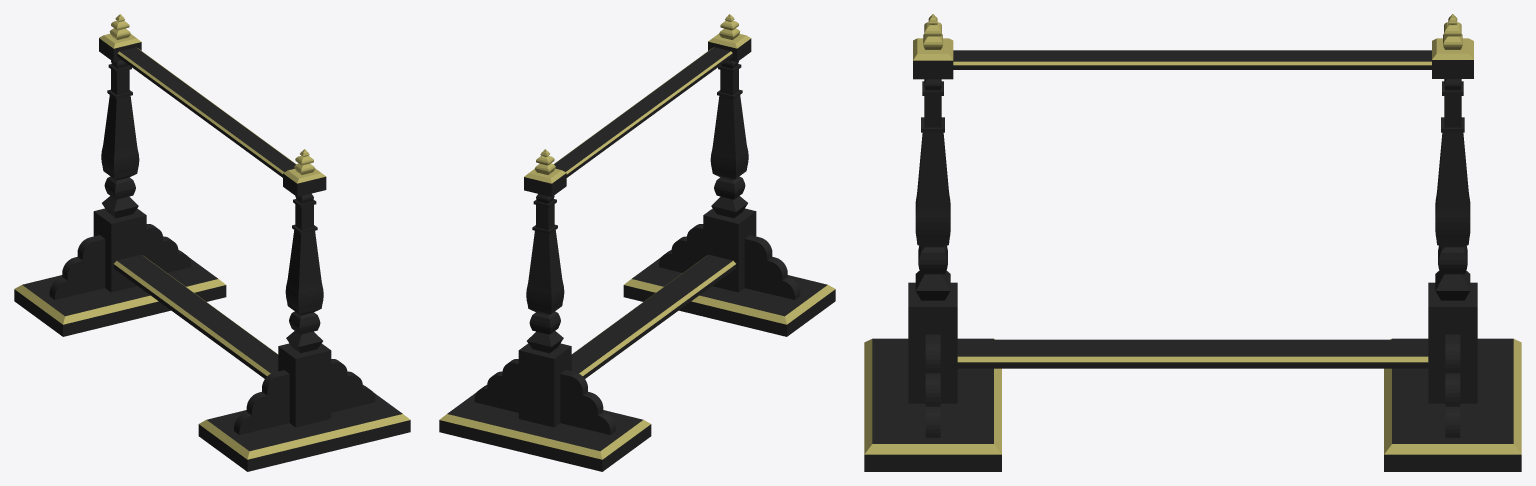
File: Spear_stand.fbx
The picture shows the model from 3 angles, left to right: view 1: azimuth 30°, elevation 25°; view 2: azimuth 150°, elevation 25°; view 3: azimuth 270°, elevation 25°; orthographic projection. The views are drawn at different scales.
Parts seen in each view (by area): view 1: Cube; view 2: Cube; view 3: Cube.
Part boxes in pixels (left/top/right/bottom): Cube: left=14, top=14, right=410, bottom=471; Cube: left=439, top=14, right=835, bottom=471; Cube: left=864, top=14, right=1521, bottom=471.
Size of the model in its own units: 140 by 234 by 347.
